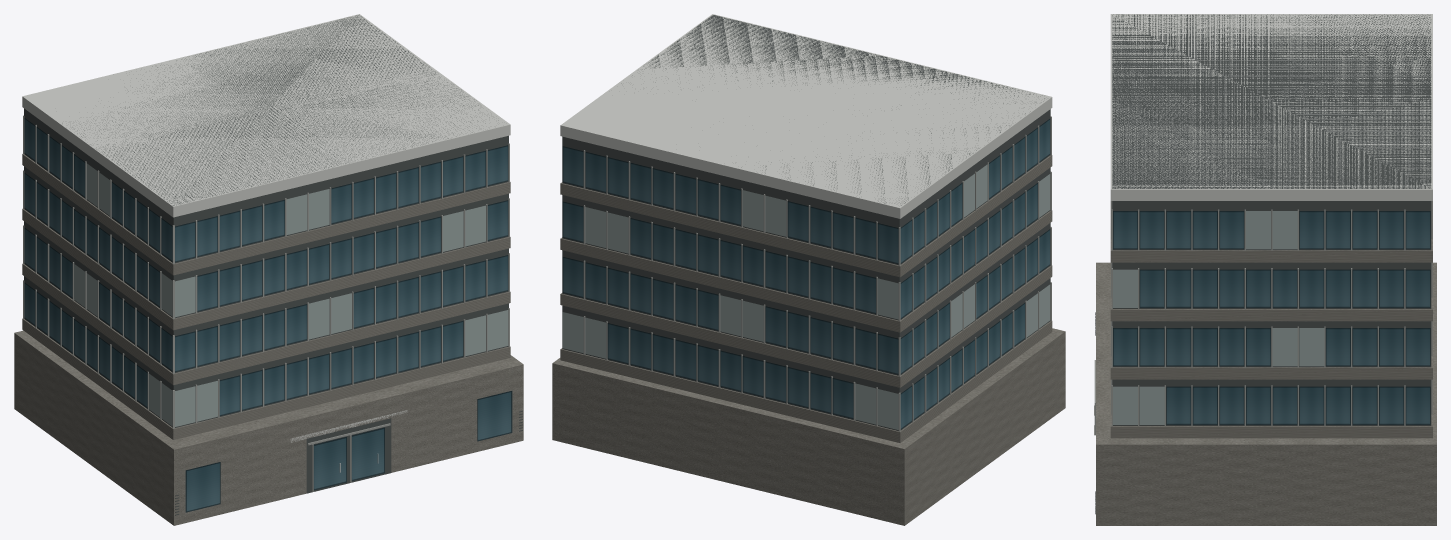
Rendered from urban_tower_c.glb.
The picture shows the model from 3 angles, left to right: view 1: azimuth 30°, elevation 25°; view 2: azimuth 150°, elevation 25°; view 3: azimuth 270°, elevation 25°; orthographic projection. The views are drawn at different scales.
Visible parts, largest first — view 1: UrbanGlazing, UrbanStone, UrbanPaleConcrete, UrbanRecess, UrbanGlazingWarm, UrbanAnodizedMetal; view 2: UrbanStone, UrbanGlazing, UrbanPaleConcrete, UrbanRecess, UrbanGlazingWarm, UrbanAnodizedMetal; view 3: UrbanRecess, UrbanStone, UrbanPaleConcrete, UrbanGlazing, UrbanGlazingWarm, UrbanAnodizedMetal.
Boxes of the visible parts, x1,y1,x2,y2 form: UrbanGlazing: (24,118,512,512); UrbanStone: (14,154,523,525); UrbanPaleConcrete: (22,14,510,472); UrbanRecess: (24,15,522,515); UrbanGlazingWarm: (74,163,508,426); UrbanAnodizedMetal: (23,115,509,491); UrbanStone: (552,155,1065,525); UrbanGlazing: (562,118,1050,429); UrbanPaleConcrete: (560,14,1052,218); UrbanRecess: (562,15,1050,430); UrbanGlazingWarm: (562,164,1050,429); UrbanAnodizedMetal: (583,116,1051,431); UrbanRecess: (1095,14,1431,514); UrbanStone: (1096,201,1436,525); UrbanPaleConcrete: (1094,14,1432,435); UrbanGlazing: (1113,211,1430,424); UrbanGlazingWarm: (1113,211,1324,424); UrbanAnodizedMetal: (1094,201,1432,435).
Size of the model in its own units: 24 by 20.5 by 19.11.
Materials: 6 (2 with a texture image).
